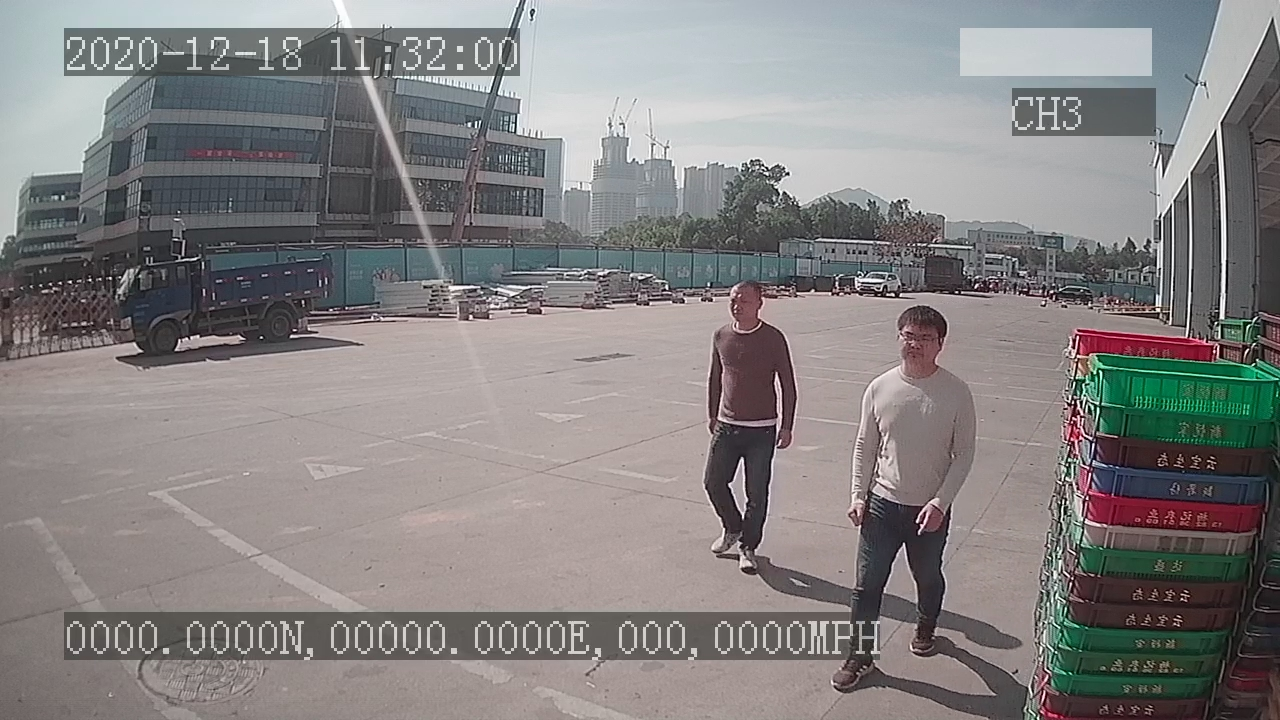person: (696, 279, 799, 575)
